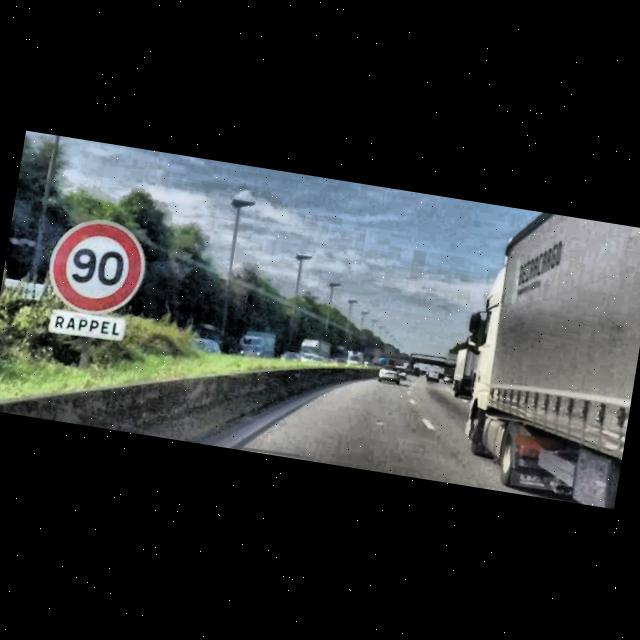speed_90: (44, 213, 150, 320)
